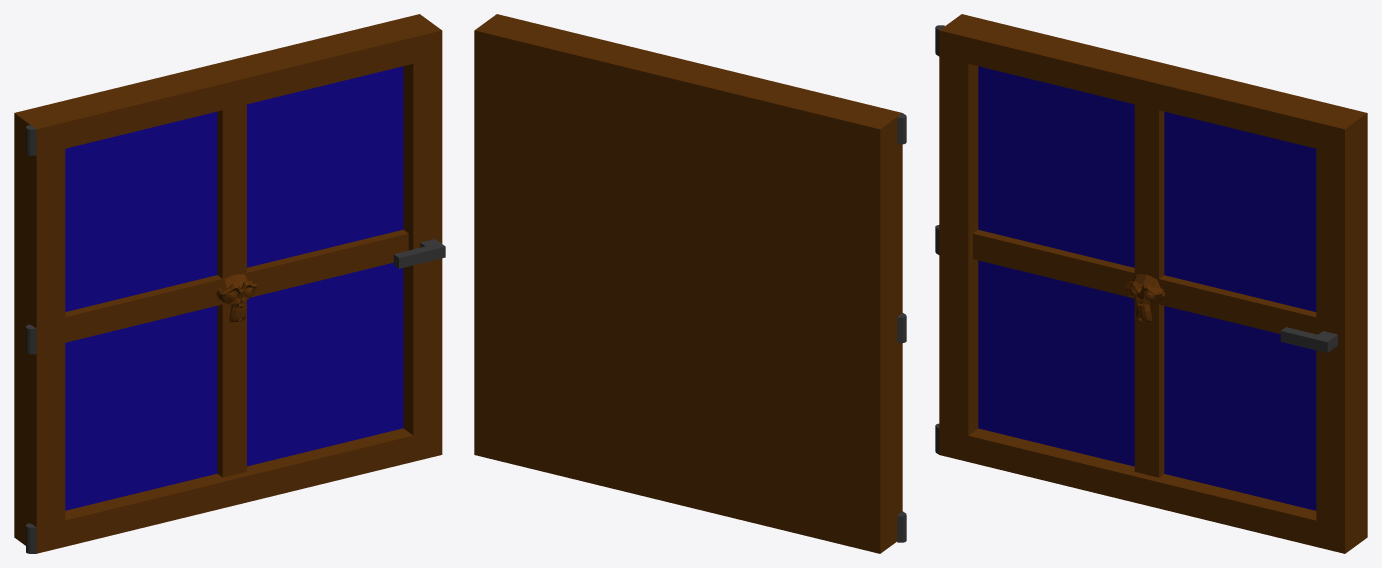
The model's file is okno.fbx.
The picture shows the model from 3 angles, left to right: view 1: azimuth 30°, elevation 25°; view 2: azimuth 150°, elevation 25°; view 3: azimuth 330°, elevation 25°; orthographic projection.
Visible parts, largest first — view 1: Okno, Ornament; view 2: Okno; view 3: Okno, Ornament.
Part boxes in pixels (bbox=[...]): Okno: bbox=[14, 14, 445, 553]; Ornament: bbox=[216, 274, 257, 322]; Okno: bbox=[474, 14, 906, 553]; Okno: bbox=[935, 14, 1367, 553]; Ornament: bbox=[1123, 274, 1164, 322].
Bounding box in the file's own units: 114 × 112 × 15.73.
